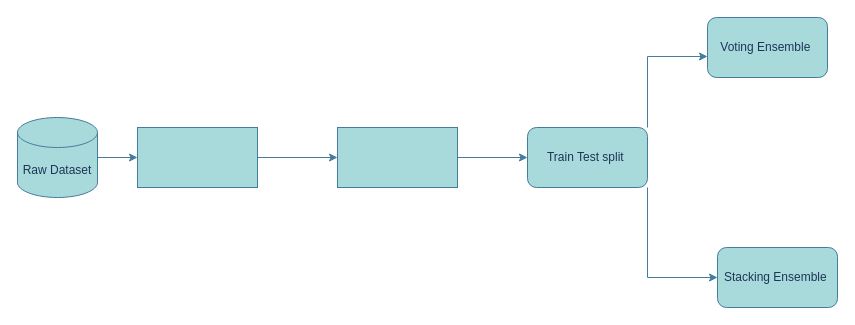
Some shapes in this 855 by 325 pixel diagram are drawn without their labels. The shapes that lost their labels are listed below. From the top down, each one's box as (x1, y1, x2, y2) in pixels, then its label:
(136, 126, 258, 188): preprocessing
(336, 126, 458, 188): Feature Engineering
